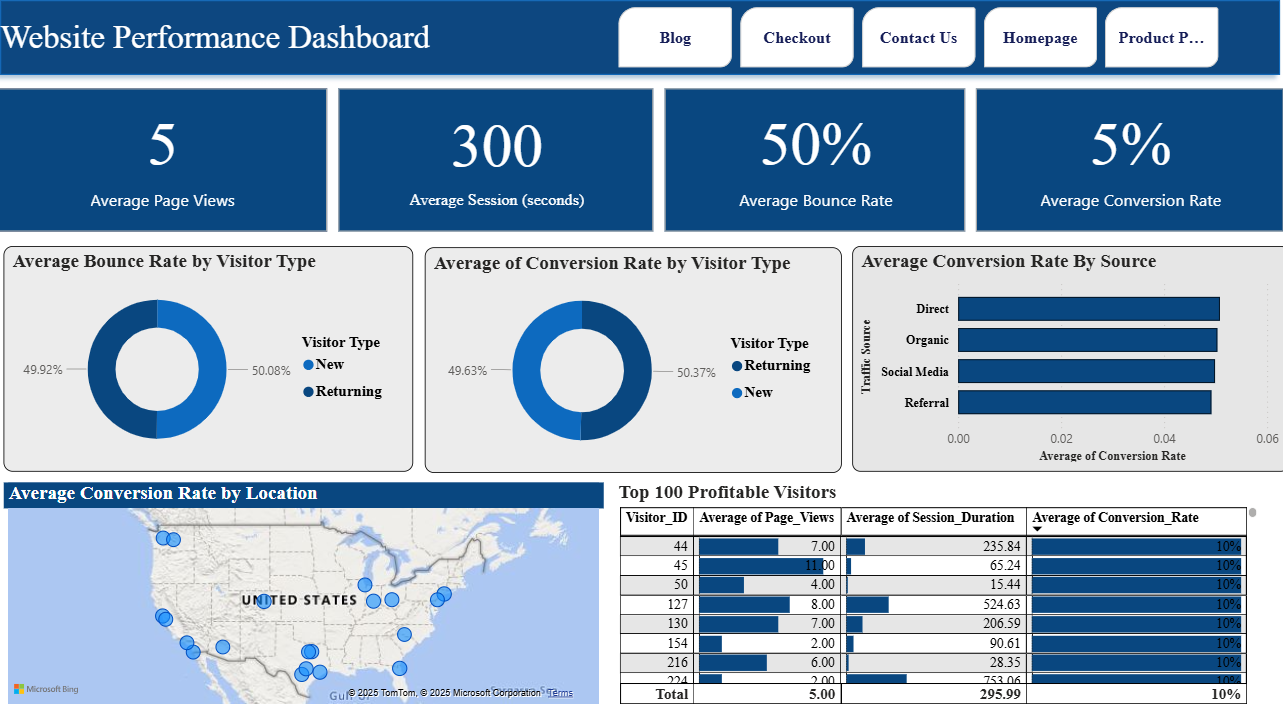

The page's visual inventory and layout, read from the dashboard file:
{"tool":"powerbi","page":{"name":"Page 1","canvas":[1280,720],"ordinal":0},"visuals":[{"type":"shape","box":[10,0,1270,91],"z":0},{"type":"advancedSlicerVisual","fields":{"Values":["website_performance_analytics.Exit_Pages"]},"box":[618.9,11.5,601.6,69.3],"z":1000},{"type":"cardVisual","fields":{"Data":["Avg(website_performance_analytics.Page_Views)"]},"box":[10.1,90.9,334.7,150],"z":2000},{"type":"cardVisual","fields":{"Data":["Avg(website_performance_analytics.Session_Duration)"]},"box":[344.8,90.9,318.9,150],"z":3000},{"type":"cardVisual","fields":{"Data":["Avg(new.Bounce_Rate)"]},"box":[663.7,90.9,304.4,150],"z":4000},{"type":"cardVisual","fields":{"Data":["Avg(new.Conversion_Rate)"]},"box":[968.1,90.9,311.6,150],"z":5000},{"type":"donutChart","fields":{"Y":["Avg(new.Bounce_Rate)"],"Category":["new.Visitor_Type"]},"box":[21.6,249.6,401.1,220.7],"z":6000},{"type":"donutChart","fields":{"Category":["new.Visitor_Type"],"Y":["Avg(new.Conversion_Rate)"]},"box":[433.5,251,408.3,220.7],"z":7000},{"type":"clusteredBarChart","title":"Average Conversion Rate By Source","fields":{"Category":["new.Traffic_Source"],"Y":["Avg(new.Conversion_Rate)"]},"box":[852.7,249.6,427.1,220.7],"z":8000},{"type":"map","title":"Average Conversion Rate by Location","fields":{"Category":["new.Location"],"Size":["Avg(new.Conversion_Rate)"]},"box":[21.6,480.4,587.2,222.2],"z":9000},{"type":"tableEx","title":"Top 100 Profitable Visitors","fields":{"Values":["new.Visitor_ID","Avg(new.Page_Views)","Avg(new.Session_Duration)","Avg(new.Conversion_Rate)"]},"box":[618.9,479,634.8,223.6],"z":10000}]}

Visuals, with their boxes in screenshot pixels (x1, y1, x2, y2), scaled from the page's 1280x720 canvas onto the 1283x721 screenshot:
shape: [x1=10, y1=0, x2=1282, y2=91]
advancedSlicerVisual - website_performance_analytics.Exit_Pages: [x1=620, y1=12, x2=1223, y2=81]
cardVisual - Avg(website_performance_analytics.Page_Views): [x1=10, y1=91, x2=346, y2=241]
cardVisual - Avg(website_performance_analytics.Session_Duration): [x1=346, y1=91, x2=665, y2=241]
cardVisual - Avg(new.Bounce_Rate): [x1=665, y1=91, x2=970, y2=241]
cardVisual - Avg(new.Conversion_Rate): [x1=970, y1=91, x2=1282, y2=241]
donutChart - Avg(new.Bounce_Rate) x new.Visitor_Type: [x1=22, y1=250, x2=424, y2=471]
donutChart - new.Visitor_Type x Avg(new.Conversion_Rate): [x1=435, y1=251, x2=844, y2=472]
"Average Conversion Rate By Source" clusteredBarChart: [x1=855, y1=250, x2=1282, y2=471]
"Average Conversion Rate by Location" map: [x1=22, y1=481, x2=610, y2=704]
"Top 100 Profitable Visitors" tableEx: [x1=620, y1=480, x2=1257, y2=704]
